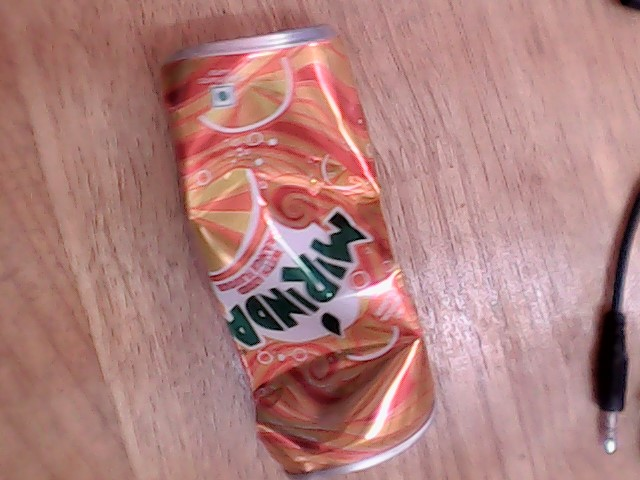Metal: (146, 39, 461, 480)
